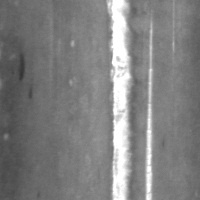inclusion: (14, 49, 28, 84)
scratches: (107, 0, 136, 199), (141, 15, 155, 199)
